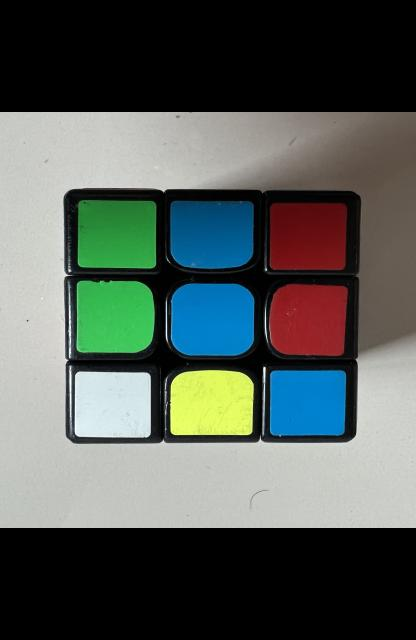Blue: (169, 283, 253, 356), (169, 201, 253, 269), (269, 371, 346, 436)
Green: (76, 281, 154, 352), (77, 200, 156, 268)
Red: (268, 284, 347, 356), (269, 203, 347, 270)
White: (73, 371, 150, 438)
Yellow: (169, 370, 253, 435)
